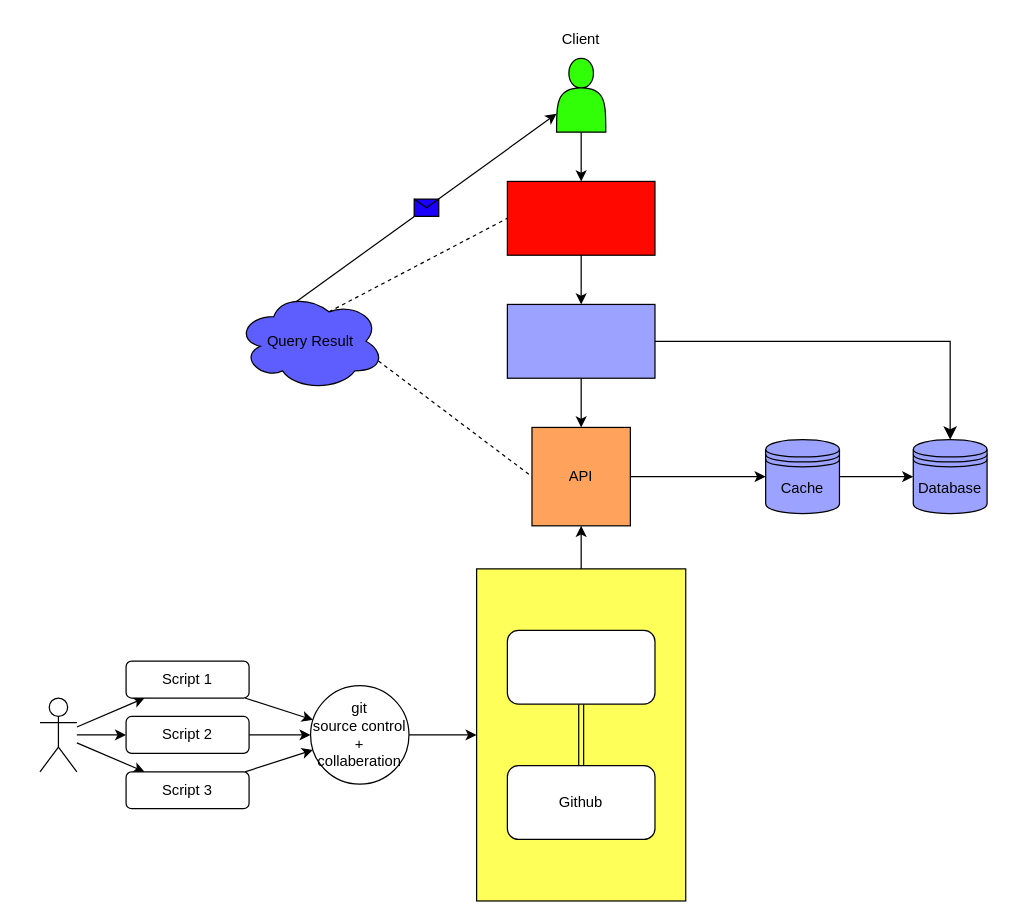
This 1009x923 diagram has some shape labels left out. The shapes that lost their labels are listed below. From the top down, each one's centre as x and y in pixels, then its label:
point (580, 217): Web Server
point (580, 340): Authentication
point (580, 666): Streamlit App
point (58, 734): Developers
